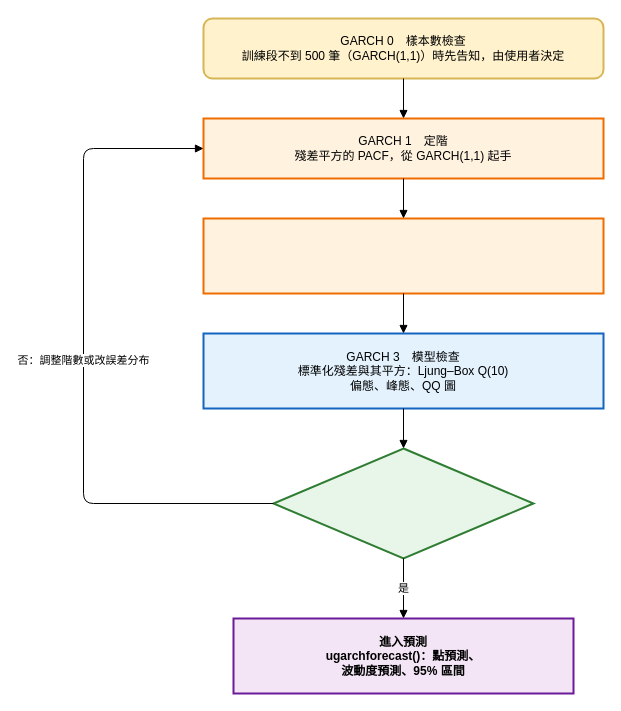
This 621x711 diagram has some shape labels left out. The shapes that lost their labels are listed below. From the top down, each one's centre as x and y in pixels, then its label:
At pixel 403 255: "GARCH 2 估計 條件最大概似，均值與波動度一起估 比較常態／Student-t／skewed-t／GED".
At pixel 403 503: "Q 檢定皆 p > 0.05 且分布假設合理？".
